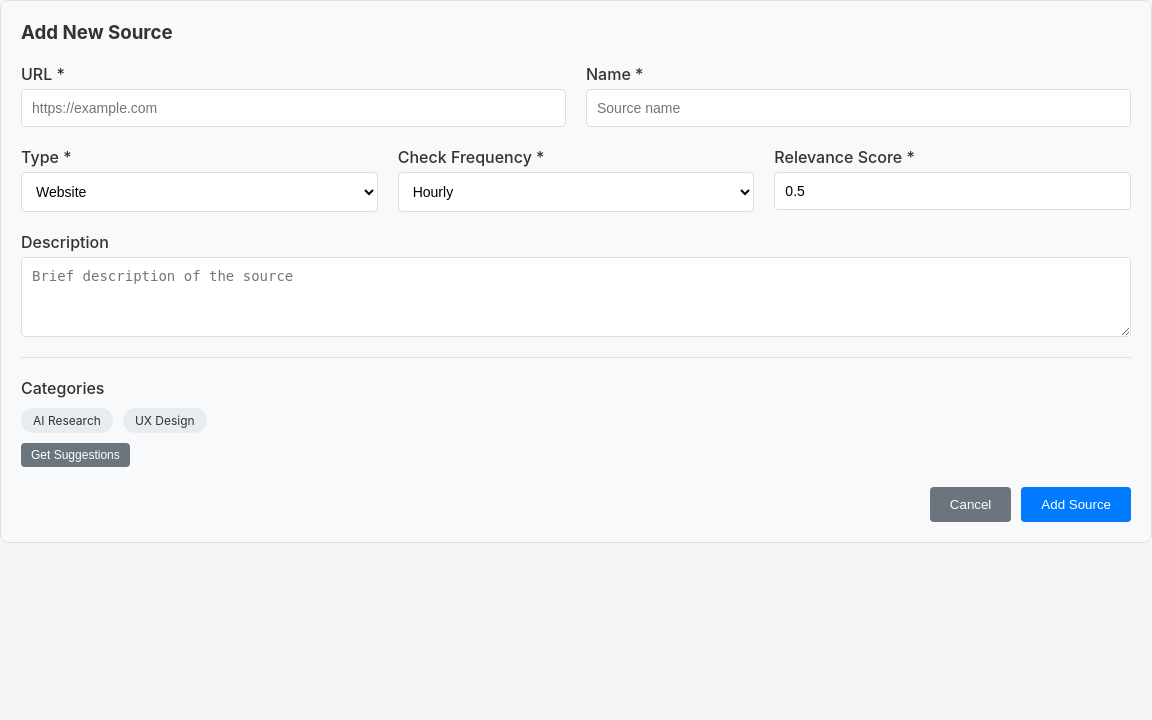
Scenario: SourceForm › handles URL validation error
The width and height of the screenshot is (1152, 720).
Step 1. Type "https://invalid.com" into the field labelled "URL *" → (294, 108), box [21,89,566,127]
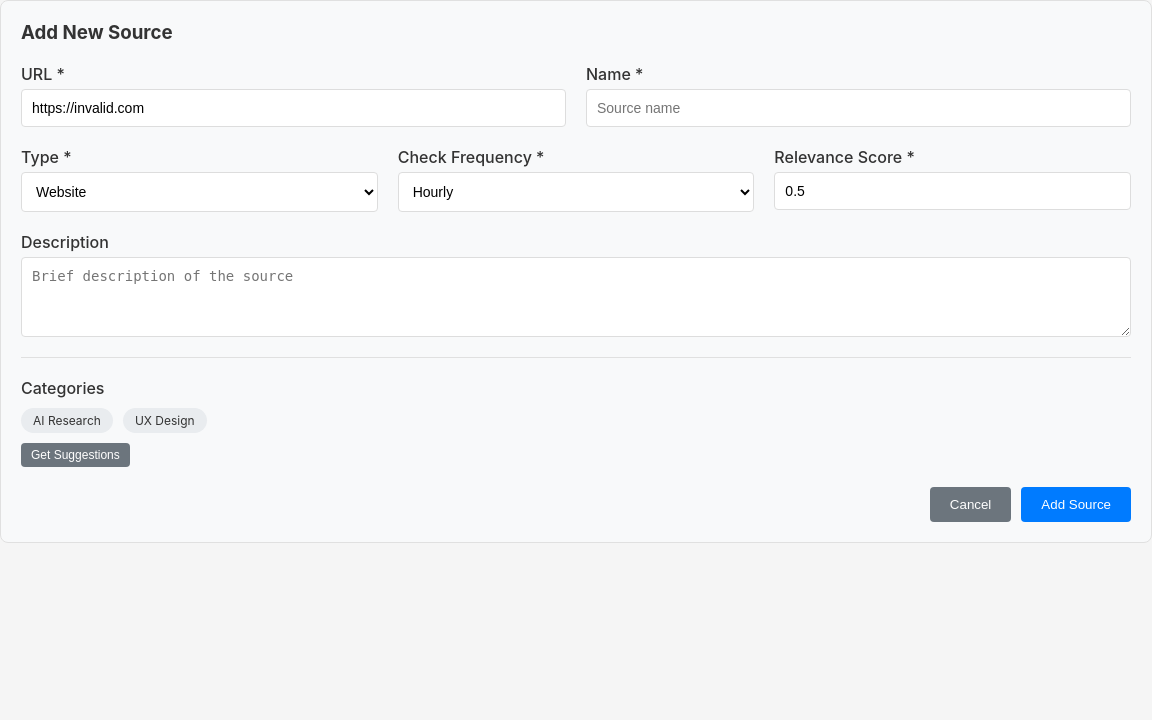
Step 2. Leave the field labelled "URL *", box [21,89,566,127]
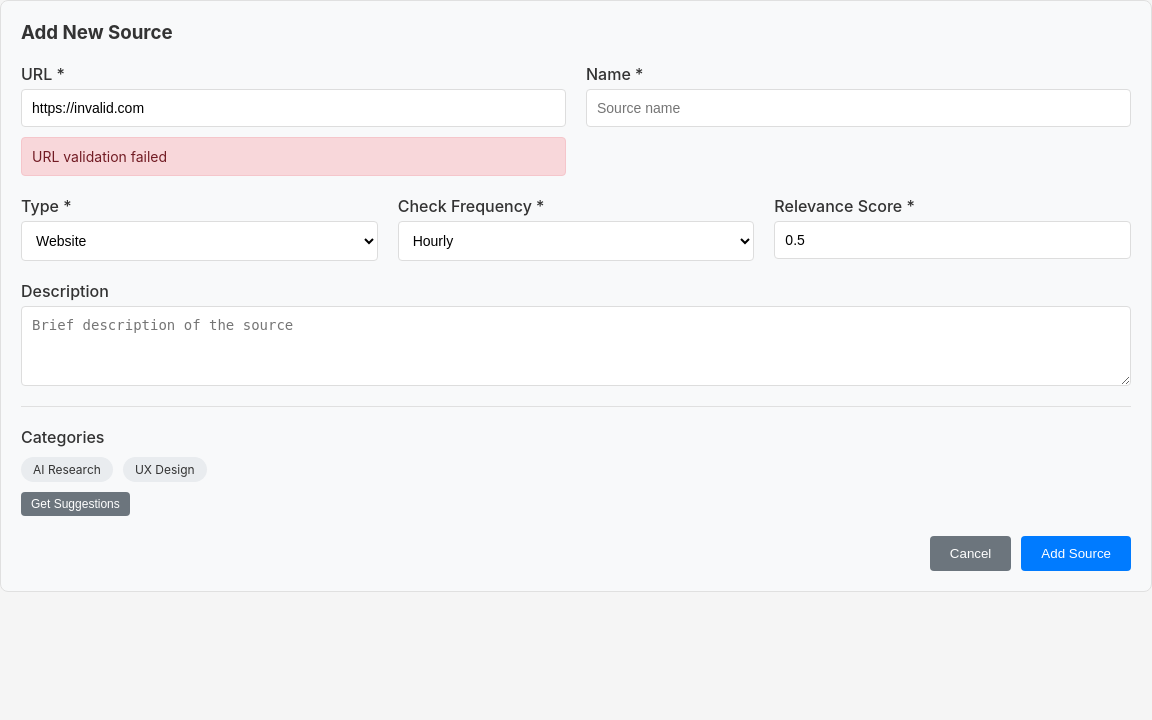
Expected: the text "URL validation failed" is shown, [21,137,566,176]
